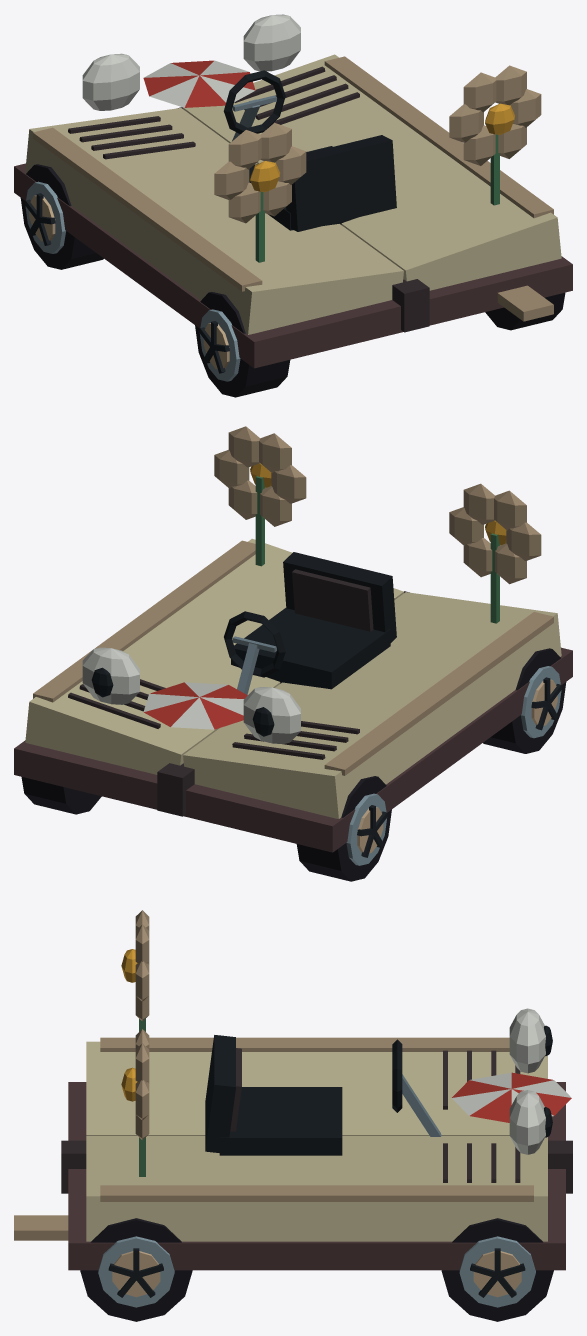
File: kart.glb
3 renders of one model, top to bottom at view 1: azimuth 30°, elevation 25°; view 2: azimuth 150°, elevation 25°; view 3: azimuth 270°, elevation 25°, orthographic. The views are drawn at different scales.
Visible parts, largest first — view 1: identity-book-book-open-pages-and-spine, identity-book-motif-flowers, identity-book-driver-cockpit, identity-book-motif-eyes, wheel-rear-left, wheel-front-left, identity-book-motif-umbrella, wheel-rear-right; view 2: identity-book-book-open-pages-and-spine, identity-book-driver-cockpit, identity-book-motif-flowers, identity-book-motif-eyes, wheel-front-left, wheel-rear-left, identity-book-motif-umbrella, wheel-front-right; view 3: identity-book-book-open-pages-and-spine, identity-book-driver-cockpit, wheel-front-right, wheel-rear-right, identity-book-motif-eyes, identity-book-motif-flowers, identity-book-motif-umbrella.
Part boxes in pixels (bbox=[...]): identity-book-book-open-pages-and-spine: bbox=[14, 54, 572, 368]; identity-book-motif-flowers: bbox=[214, 65, 541, 262]; identity-book-driver-cockpit: bbox=[223, 70, 396, 231]; identity-book-motif-eyes: bbox=[82, 14, 300, 110]; wheel-rear-left: bbox=[195, 292, 290, 397]; wheel-front-left: bbox=[20, 164, 103, 269]; identity-book-motif-umbrella: bbox=[143, 60, 255, 107]; wheel-rear-right: bbox=[485, 292, 565, 330]; identity-book-book-open-pages-and-spine: bbox=[14, 538, 572, 852]; identity-book-driver-cockpit: bbox=[224, 552, 396, 694]; identity-book-motif-flowers: bbox=[214, 426, 541, 623]; identity-book-motif-eyes: bbox=[82, 647, 300, 743]; wheel-front-left: bbox=[296, 776, 391, 881]; wheel-rear-left: bbox=[483, 648, 566, 753]; identity-book-motif-umbrella: bbox=[143, 682, 247, 729]; wheel-front-right: bbox=[21, 776, 101, 814]; identity-book-book-open-pages-and-spine: bbox=[14, 1037, 572, 1270]; identity-book-driver-cockpit: bbox=[205, 1035, 441, 1155]; wheel-front-right: bbox=[441, 1218, 553, 1321]; wheel-rear-right: bbox=[80, 1218, 192, 1321]; identity-book-motif-eyes: bbox=[509, 1008, 552, 1154]; identity-book-motif-flowers: bbox=[121, 910, 149, 1176]; identity-book-motif-umbrella: bbox=[452, 1072, 571, 1122].
Bounding box in the file's own units: 2.01 × 1.46 × 2.78.
